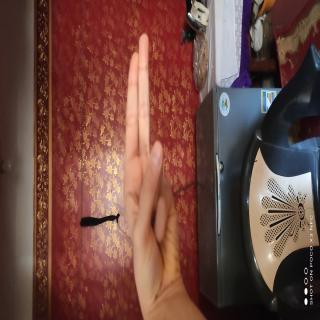AYN: (0, 268, 137, 320)
